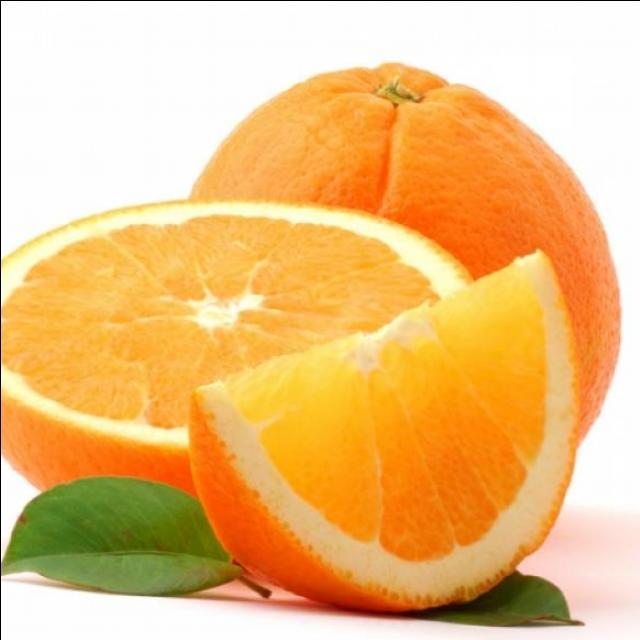orange: (168, 52, 634, 520)
